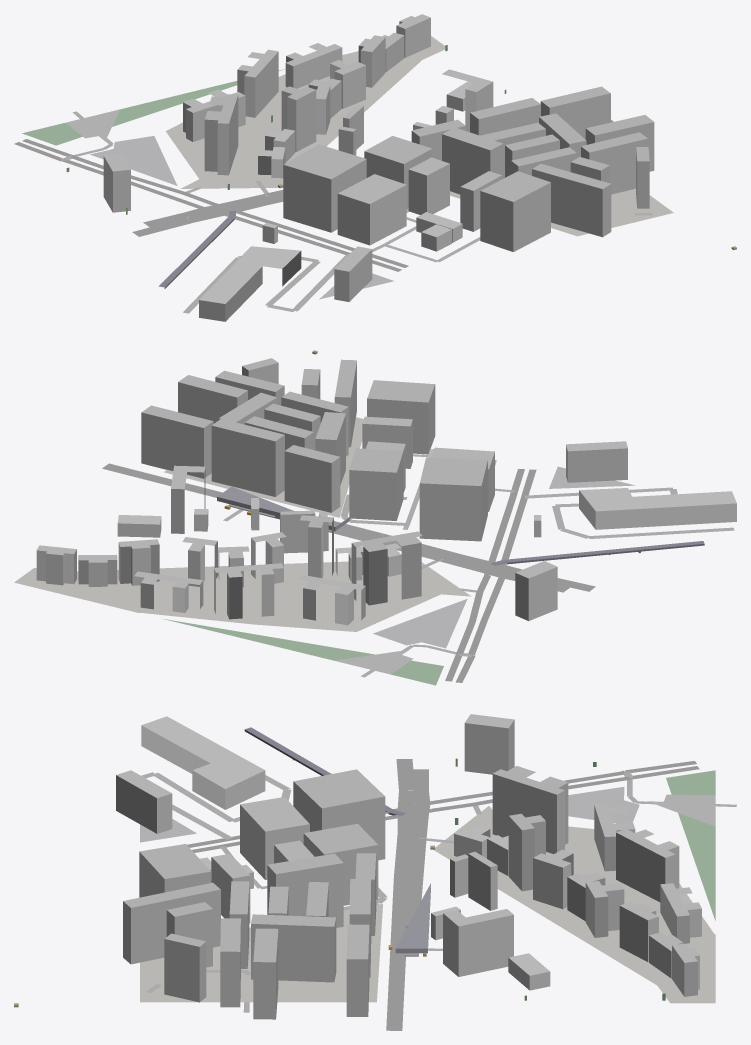
The picture shows the model from 3 angles, top to bottom: view 1: azimuth 30°, elevation 25°; view 2: azimuth 150°, elevation 25°; view 3: azimuth 270°, elevation 25°; orthographic projection. The views are drawn at different scales.
Bounding box in the file's own units: 611 × 63.38 × 628.
